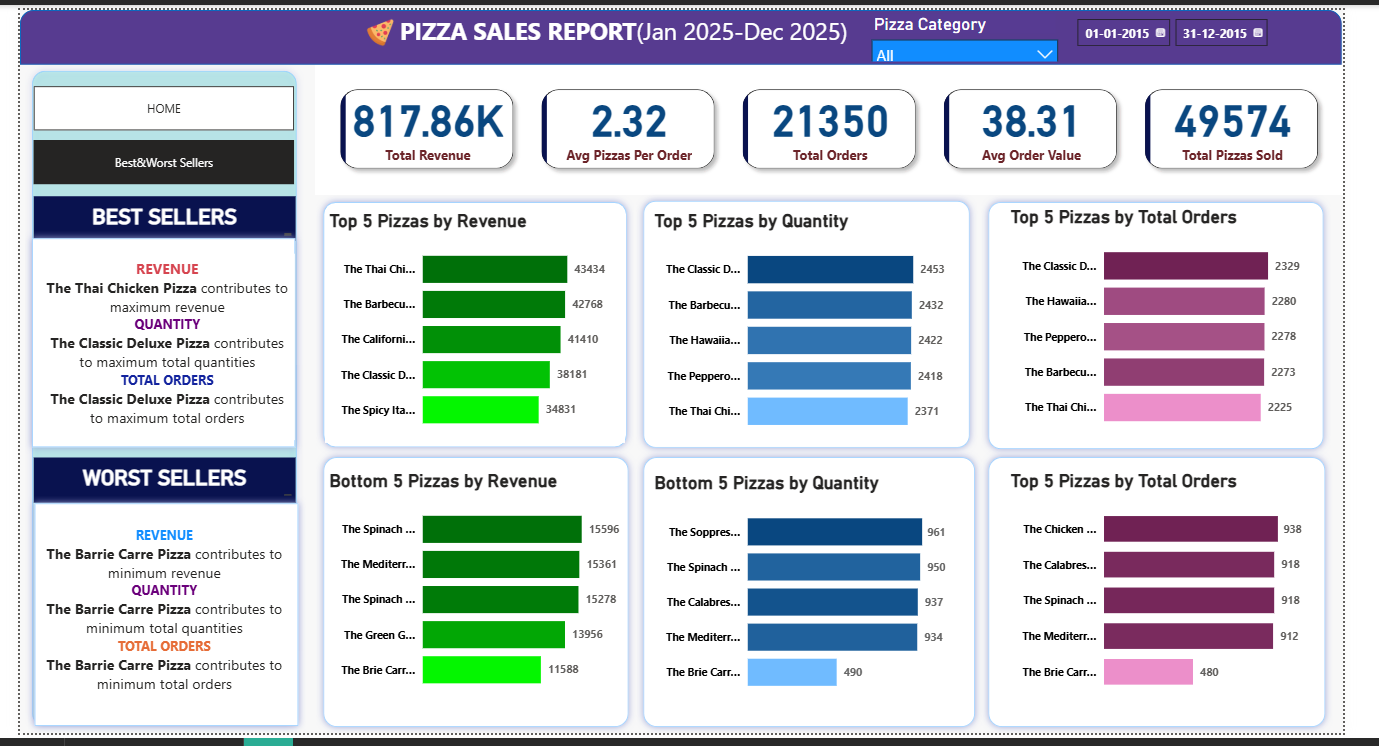

The dashboard page shown, as its layout file describes it:
{"tool":"powerbi","page":{"name":"Best&Worst Sellers","canvas":[1500,820],"ordinal":1},"visuals":[{"type":"cardVisual","fields":{"Data":["Details.Total Revenue","Details.Avg Pizzas Per Order","Details.Total Orders","Details.Avg Order Value","Details.Total Pizzas Sold"]},"box":[334.3,61.4,1166,148.6],"z":0},{"type":"shape","box":[0,0,1498,62],"z":1000},{"type":"textbox","box":[374.3,0,811.4,51.4],"z":2000},{"type":"image","box":[0,10,817.1,31.4],"z":3000},{"type":"shape","box":[336,210,360,294],"z":4000},{"type":"shape","box":[698,208,386,296],"z":5000},{"type":"shape","box":[336,498,362,322],"z":6000},{"type":"shape","box":[698,498,392,322],"z":7000},{"type":"shape","box":[1090,498,398,322],"z":8000},{"type":"shape","box":[6,61,316,759],"z":9000},{"type":"textbox","title":"BEST SELLERS","box":[15,211.7,296.7,50],"z":10000},{"type":"shape","box":[5.7,251.4,314.3,252.9],"z":11000},{"type":"textbox","title":"WORST SELLERS","box":[16,506.7,296.7,51],"z":12000},{"type":"shape","box":[8.3,551.7,315,268.3],"z":13000},{"type":"textbox","box":[22.9,275.7,288.6,211.4],"z":14000},{"type":"textbox","box":[16,580,296,206],"z":15000},{"type":"slicer","fields":{"Values":["Details.pizza_category"]},"box":[954.3,0,231.4,58.6],"z":16000},{"type":"slicer","fields":{"Values":["Details.order_date"]},"box":[1185.7,0,247.1,58.6],"z":17000},{"type":"shape","box":[1090,210,396,296],"z":18000},{"type":"barChart","title":"Top 5 Pizzas by Revenue","fields":{"Y":["Details.Total Revenue"],"Category":["Details.pizza_name"]},"box":[346,226,340,264],"z":19000},{"type":"barChart","title":"Bottom 5 Pizzas by Revenue","fields":{"Y":["Details.Total Revenue"],"Category":["Details.pizza_name"]},"box":[346,522,340,264],"z":20000},{"type":"barChart","title":"Top 5 Pizzas by Quantity","fields":{"Y":["Details.Total Pizzas Sold"],"Category":["Details.pizza_name"]},"box":[714,226,340,266],"z":21000},{"type":"barChart","title":"Bottom 5 Pizzas by Quantity","fields":{"Category":["Details.pizza_name"],"Y":["Details.Total Pizzas Sold"]},"box":[714,524,340,264],"z":22000},{"type":"barChart","title":"Top 5 Pizzas by Total Orders","fields":{"Category":["Details.pizza_name"],"Y":["Details.Total Orders"]},"box":[1118,222,340,266],"z":23000},{"type":"barChart","title":"Top 5 Pizzas by Total Orders","fields":{"Category":["Details.pizza_name"],"Y":["Details.Total Orders"]},"box":[1118,522,340,266],"z":24000},{"type":"pageNavigator","box":[15.7,147.1,295.7,50],"z":25000},{"type":"pageNavigator","box":[15.7,85.7,295.7,50],"z":26000}]}

Visuals, with their boxes in screenshot pixels (x1, y1, x2, y2), scaled from the page's 1500x820 canvas onto the 1379x746 screenshot:
cardVisual - Details.Total Revenue x Details.Avg Pizzas Per Order: crop(307, 56, 1378, 191)
shape: crop(0, 0, 1377, 56)
textbox: crop(344, 0, 1090, 47)
image: crop(0, 9, 751, 38)
shape: crop(309, 191, 640, 459)
shape: crop(642, 189, 997, 459)
shape: crop(309, 453, 642, 745)
shape: crop(642, 453, 1002, 745)
shape: crop(1002, 453, 1368, 745)
shape: crop(6, 55, 296, 745)
"BEST SELLERS" textbox: crop(14, 193, 287, 238)
shape: crop(5, 229, 294, 459)
"WORST SELLERS" textbox: crop(15, 461, 287, 507)
shape: crop(8, 502, 297, 745)
textbox: crop(21, 251, 286, 443)
textbox: crop(15, 528, 287, 715)
slicer - Details.pizza_category: crop(877, 0, 1090, 53)
slicer - Details.order_date: crop(1090, 0, 1317, 53)
shape: crop(1002, 191, 1366, 460)
"Top 5 Pizzas by Revenue" barChart: crop(318, 206, 631, 446)
"Bottom 5 Pizzas by Revenue" barChart: crop(318, 475, 631, 715)
"Top 5 Pizzas by Quantity" barChart: crop(656, 206, 969, 448)
"Bottom 5 Pizzas by Quantity" barChart: crop(656, 477, 969, 717)
"Top 5 Pizzas by Total Orders" barChart: crop(1028, 202, 1340, 444)
"Top 5 Pizzas by Total Orders" barChart: crop(1028, 475, 1340, 717)
pageNavigator: crop(14, 134, 286, 179)
pageNavigator: crop(14, 78, 286, 123)
